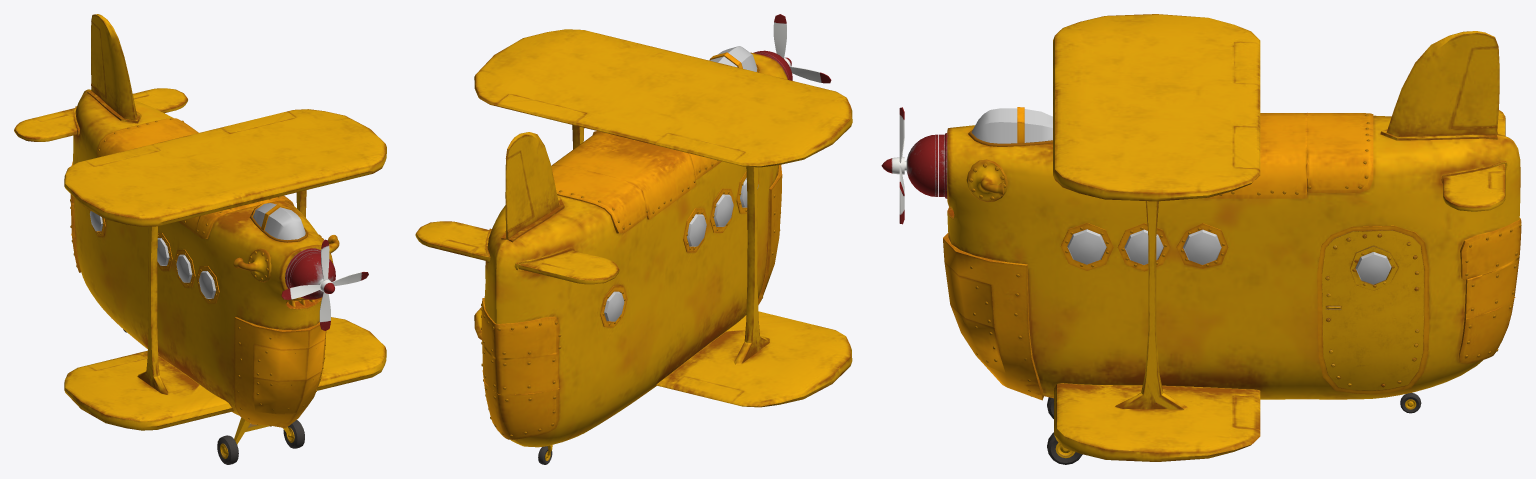
File: samoletche6.fbx
The picture shows the model from 3 angles, left to right: view 1: azimuth 30°, elevation 25°; view 2: azimuth 150°, elevation 25°; view 3: azimuth 270°, elevation 25°; orthographic projection. The views are drawn at different scales.
Visible parts, largest first — view 1: Wings, Body, Parts, Parts_1, Perki, Engine_Front, Kolela, Glass__cabin, Glass, Bolts; view 2: Wings, Body, Parts_1, Parts, Glass, Perki, Bolts, Glass__cabin; view 3: Body, Wings, Parts_1, Door, Parts, Glass, Parts_1_2, Glass__cabin, Engine_Front, Kolela, Bolts, Perki (+1 smaller).
Part boxes in pixels (x1,y1,x2,y2): Wings: (14, 14, 386, 430); Body: (73, 89, 339, 415); Parts: (71, 210, 326, 428); Parts_1: (70, 118, 293, 272); Perki: (281, 239, 368, 330); Engine_Front: (285, 248, 335, 299); Kolela: (123, 329, 304, 464); Glass__cabin: (253, 203, 305, 239); Glass: (90, 211, 215, 298); Bolts: (70, 118, 325, 426); Wings: (415, 29, 852, 407); Body: (484, 52, 787, 447); Parts_1: (481, 131, 721, 439); Parts: (482, 164, 782, 394); Glass: (604, 178, 758, 321); Perki: (773, 14, 831, 83); Bolts: (481, 160, 780, 436); Glass__cabin: (710, 46, 757, 71); Body: (947, 115, 1520, 399); Wings: (1053, 14, 1507, 461); Parts_1: (1205, 113, 1521, 363); Door: (1321, 230, 1424, 390); Parts: (943, 223, 1515, 400); Glass: (1067, 229, 1221, 264); Parts_1_2: (1317, 225, 1429, 394); Glass__cabin: (971, 108, 1052, 143); Engine_Front: (906, 133, 947, 198); Kolela: (1047, 392, 1421, 464); Bolts: (952, 113, 1521, 396); Perki: (881, 107, 906, 224).
Size of the model in its own units: 4.66 by 4.93 by 6.96.
10 materials, 7 textured.
